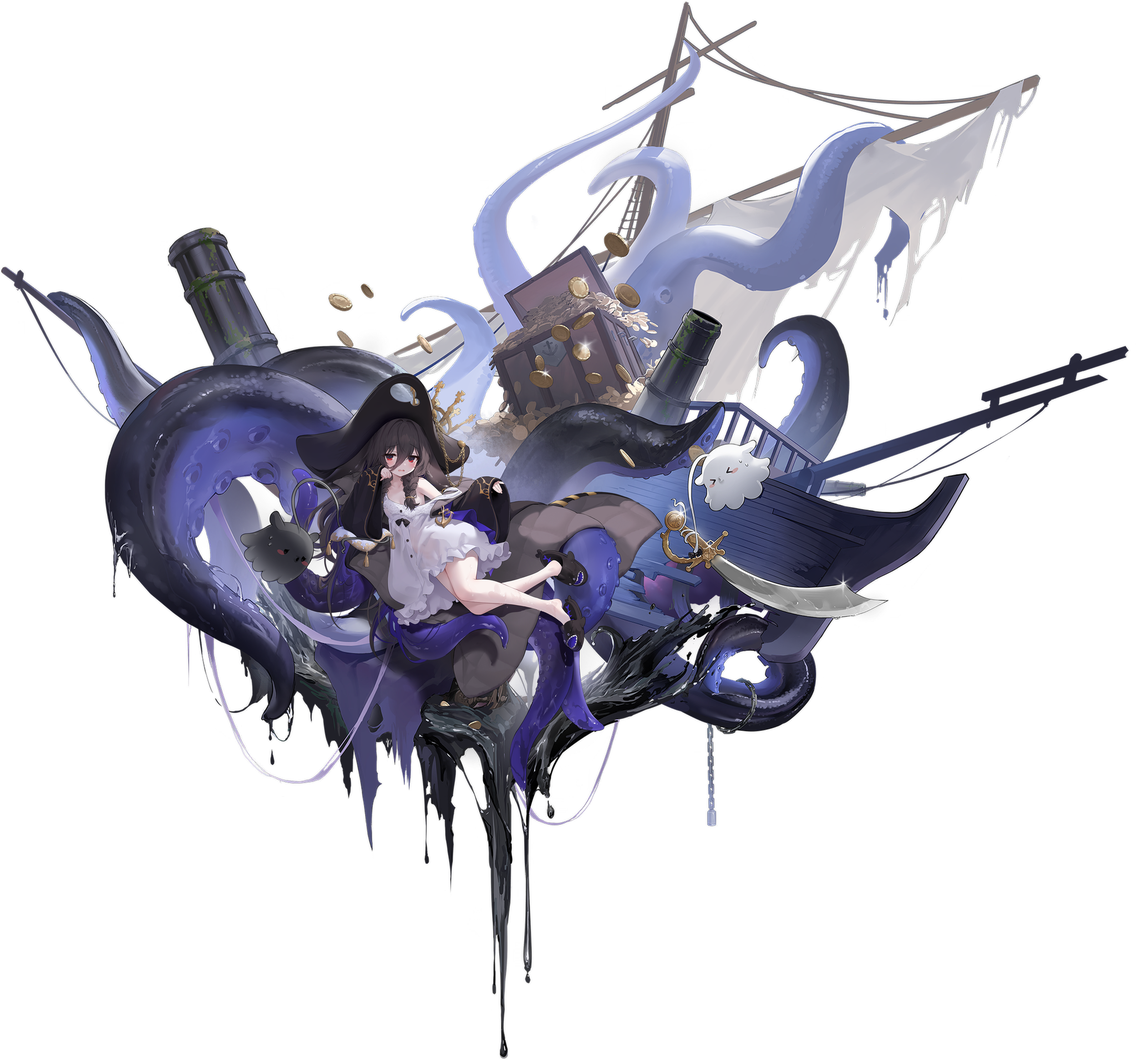person: (231, 335, 633, 895)
